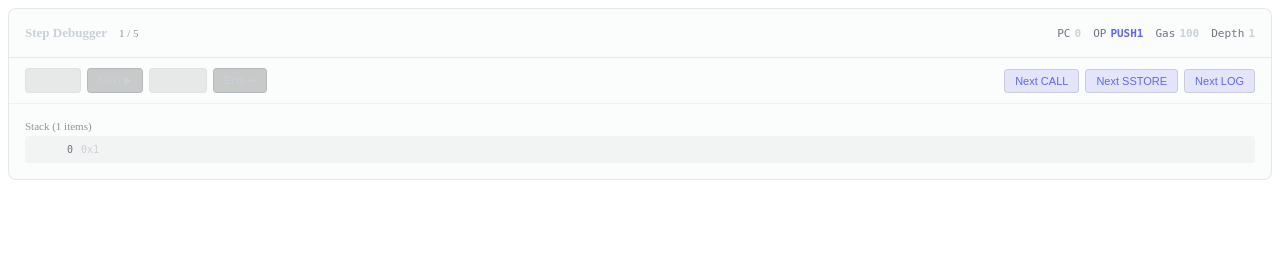
Test: StepDebugger — button navigation › advances on Next and retreats on Prev
The image size is (1280, 267).
Click the button titled "Next step" at (115, 80), box x1=87 y1=68 x2=143 y2=93
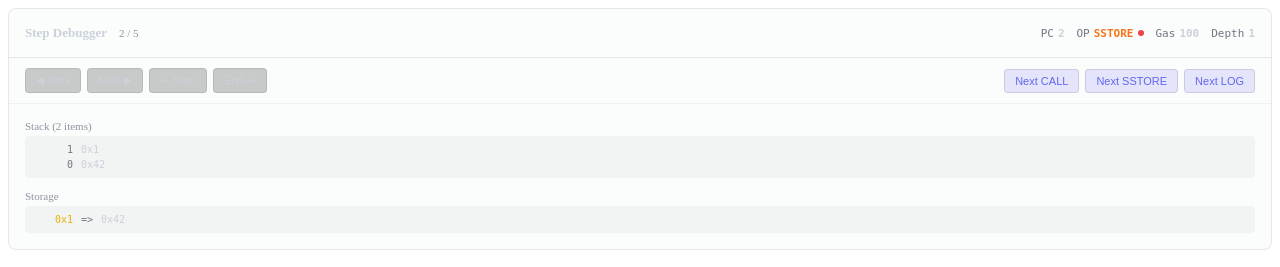
Result: the text "2 / 5" is shown at x1=119 y1=27 x2=139 y2=39
Click the button titled "Previous step" at (53, 80), box x1=25 y1=68 x2=81 y2=93
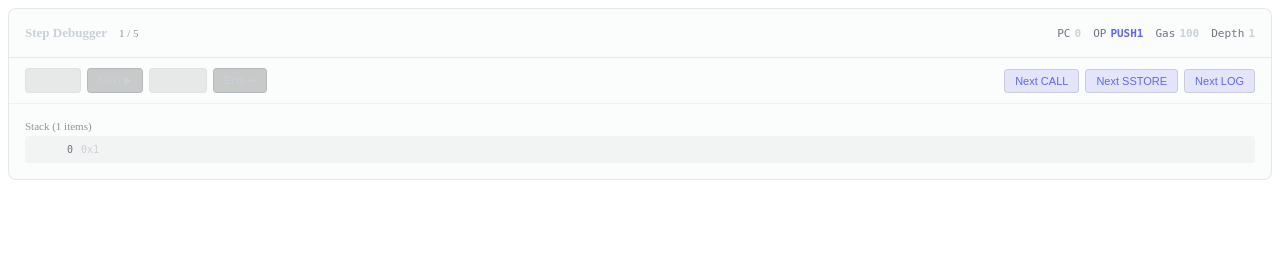
Result: the text "1 / 5" is shown at x1=119 y1=27 x2=139 y2=39
